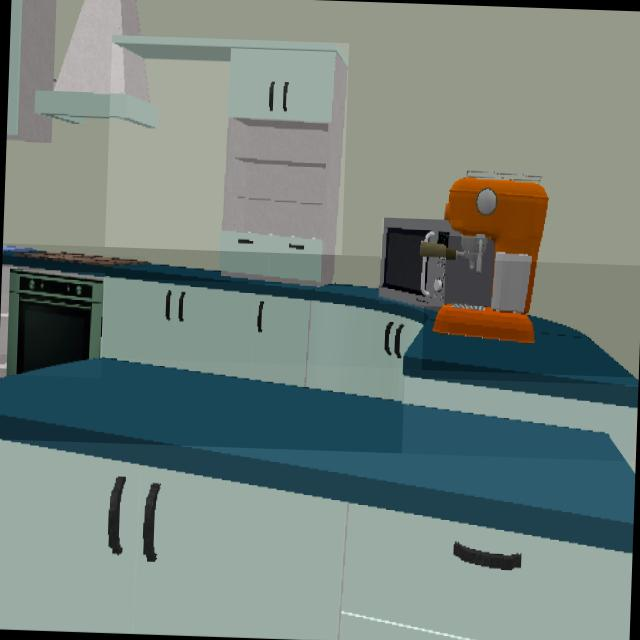cabinet: (0, 440, 632, 640), (112, 35, 348, 286), (100, 278, 423, 402), (403, 378, 637, 473), (6, 0, 56, 143), (0, 266, 13, 373)
countertop: (0, 358, 635, 553), (2, 243, 637, 409)
microwave: (379, 218, 462, 305), (445, 238, 495, 307)
oven: (6, 269, 104, 374)
stove: (18, 252, 147, 266)
